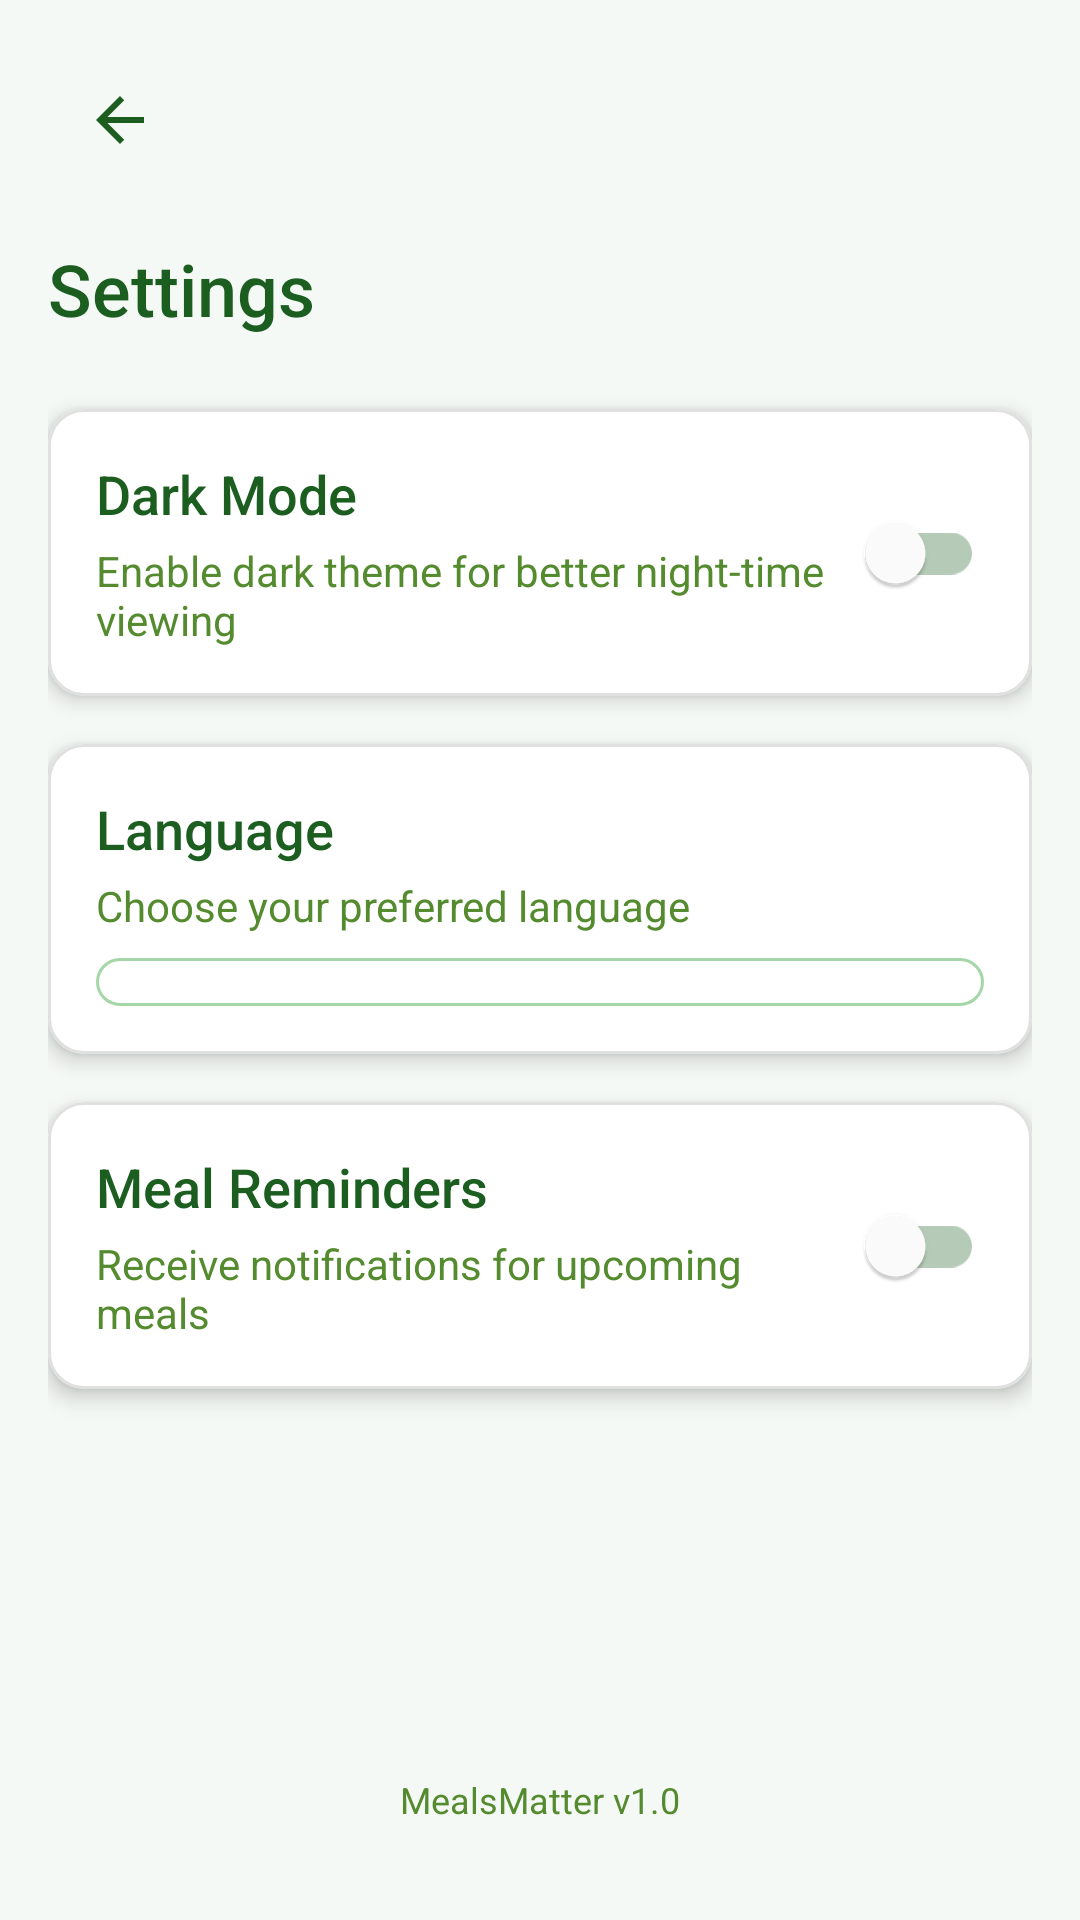

Icons on this 1080w x 1920h Android screen, each with its box as [x1,y1,x2,y2]:
Back: [96,96,144,144]
